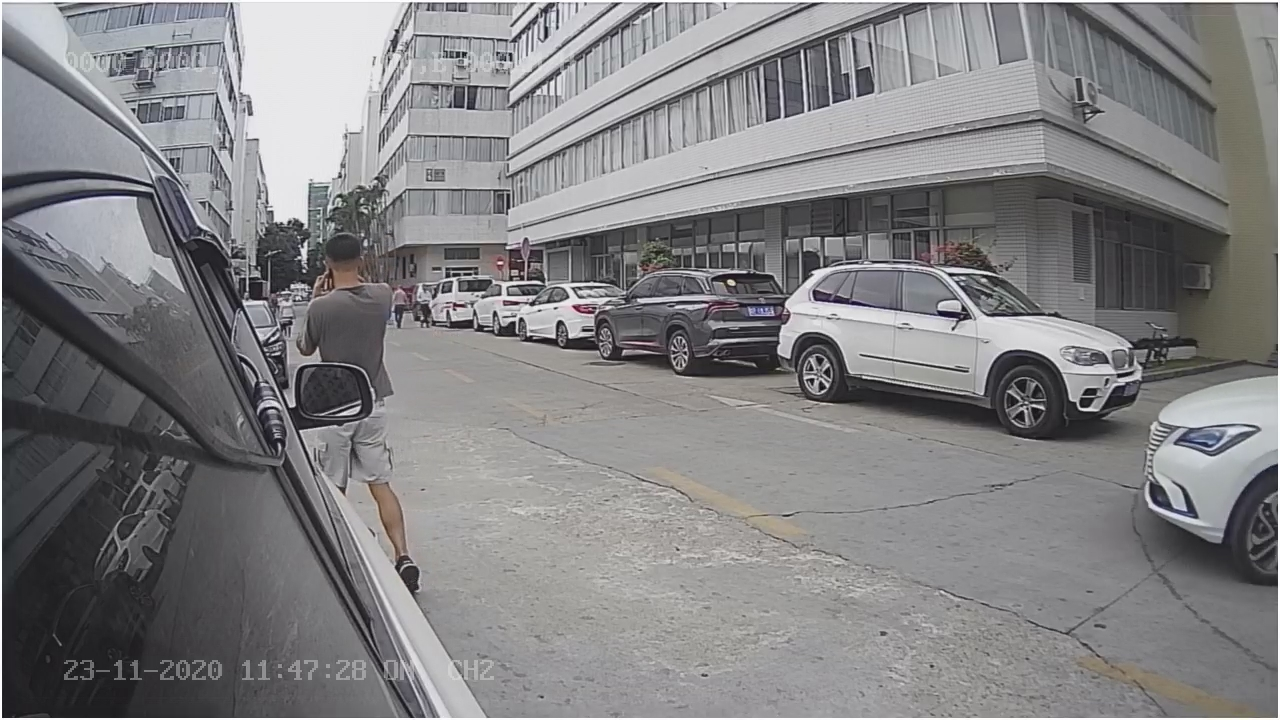person: (285, 230, 405, 362)
